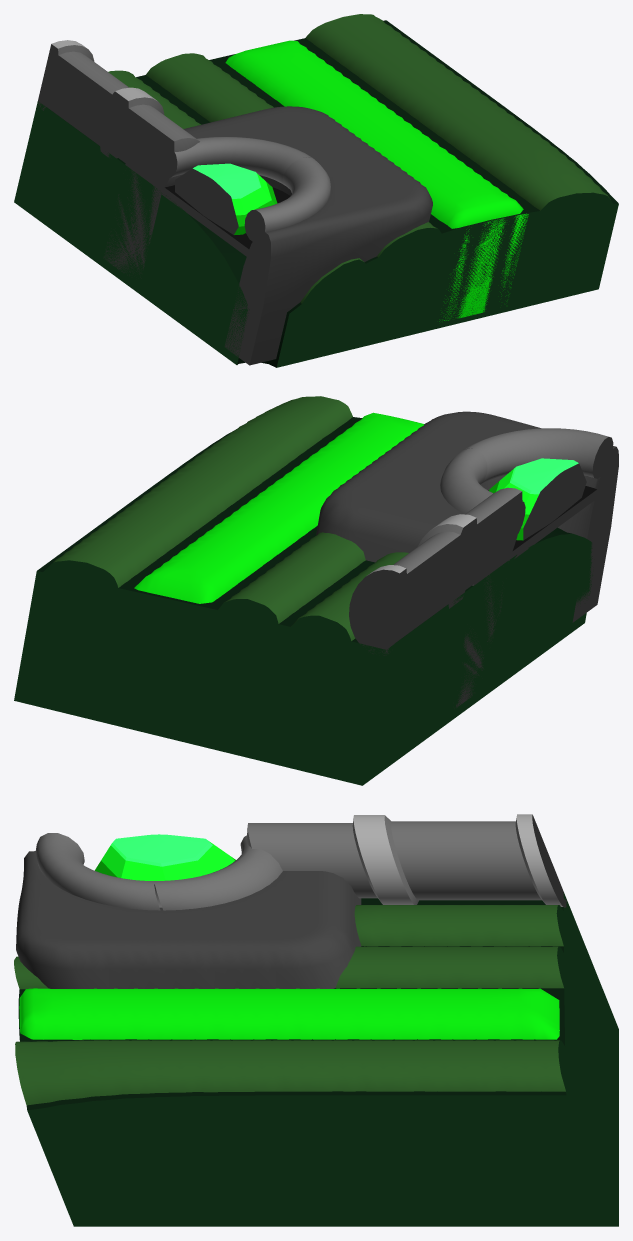
The model's file is green_shell_233.glb.
The picture shows the model from 3 angles, top to bottom: view 1: azimuth 30°, elevation 25°; view 2: azimuth 150°, elevation 25°; view 3: azimuth 270°, elevation 25°; orthographic projection. The views are drawn at different scales.
Visible parts, largest first — view 1: green_shell_233; view 2: green_shell_233; view 3: green_shell_233.
Boxes of the visible parts, x1,y1,x2,y2 form: green_shell_233: (14,14,618,367); green_shell_233: (14,396,618,785); green_shell_233: (14,814,618,1226).
Bounding box in the file's own units: 24 × 12.25 × 31.08.
